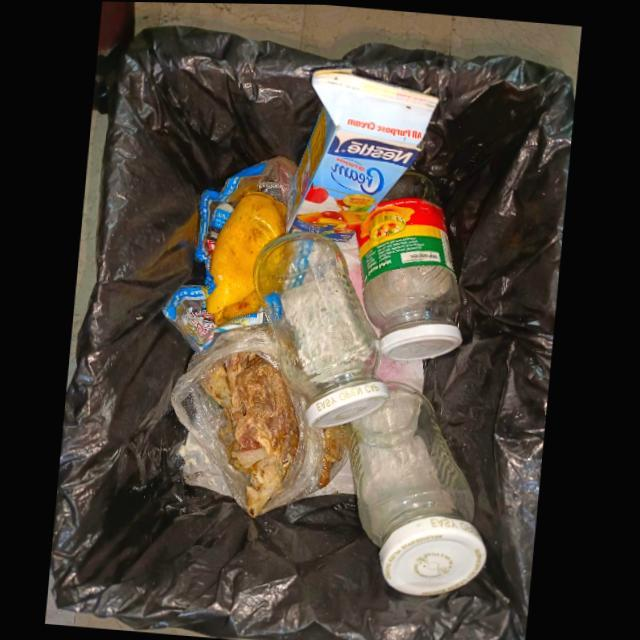biowaste: (205, 355, 302, 516), (207, 191, 287, 325)
glass: (351, 381, 489, 596), (254, 230, 391, 428), (356, 169, 464, 360)
paper: (286, 68, 439, 241)
